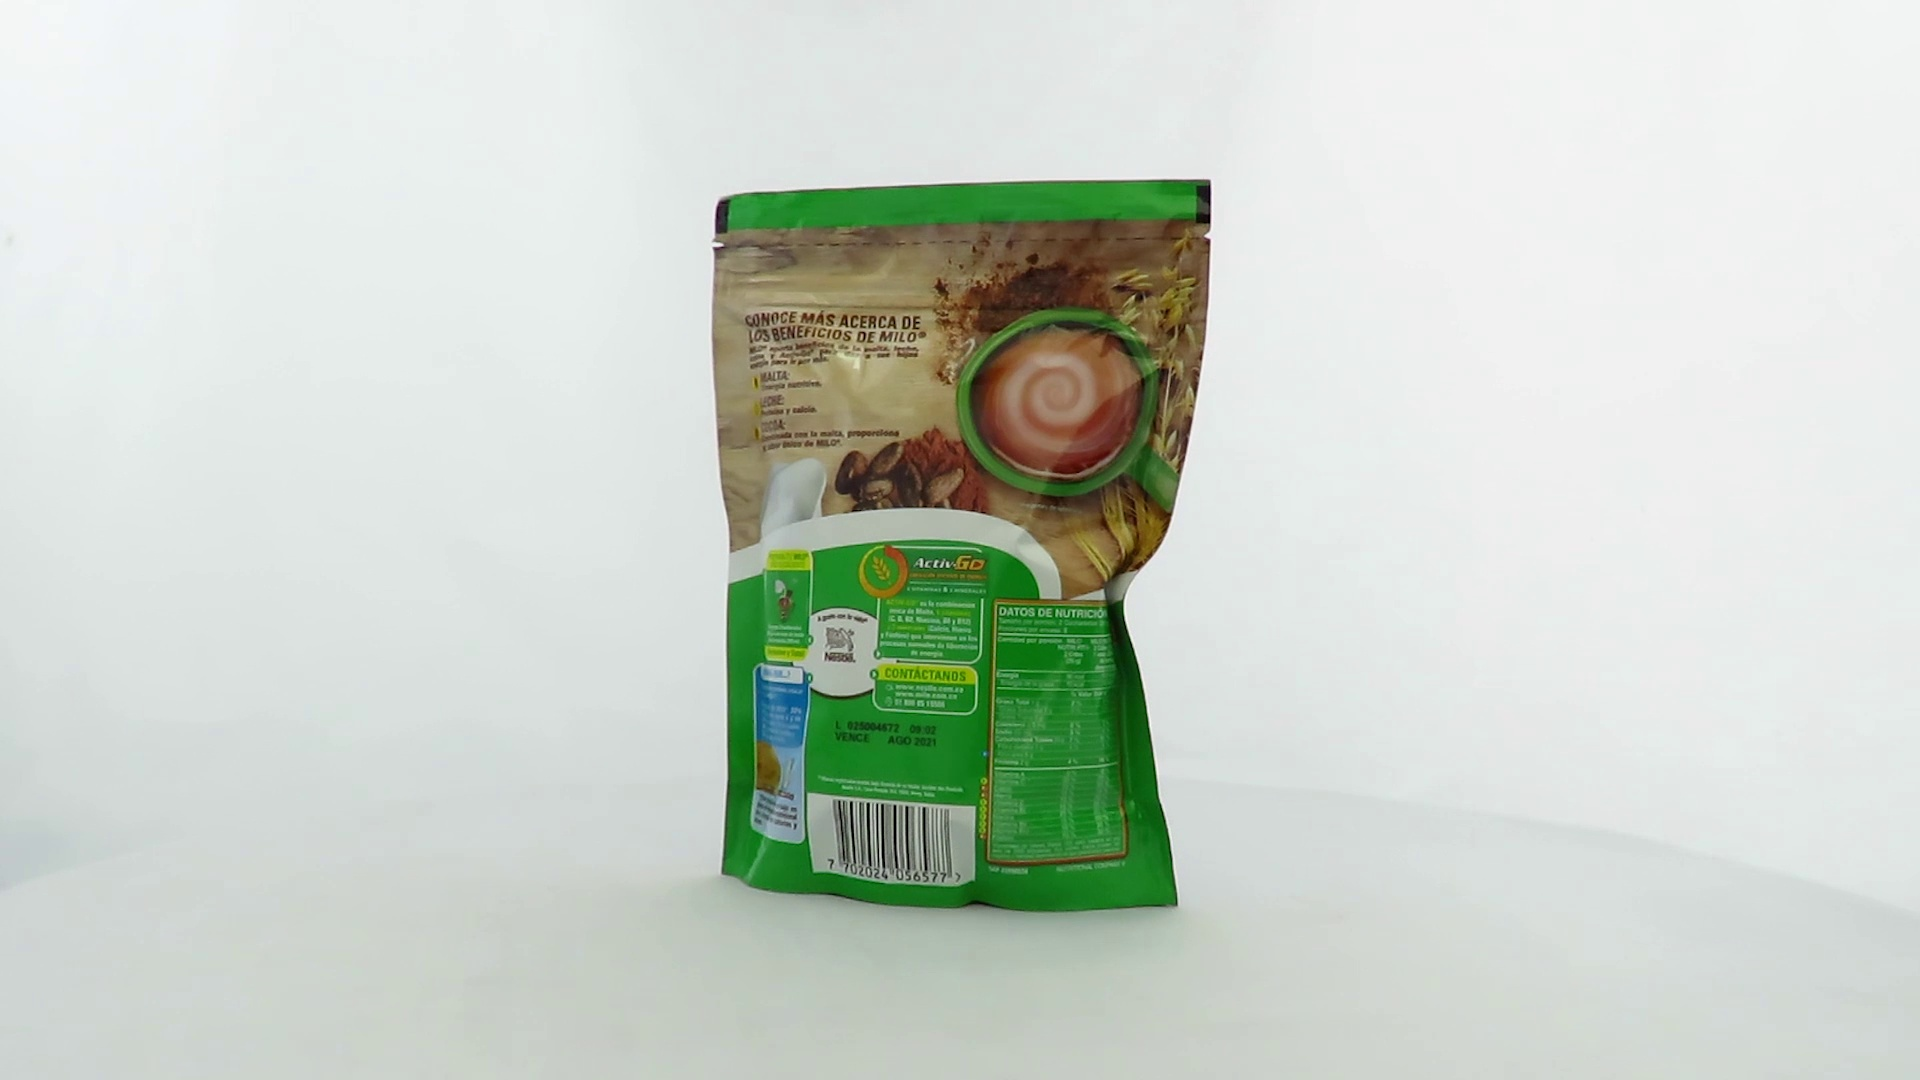COL0170205DYP20000: (705, 174, 1217, 919)
